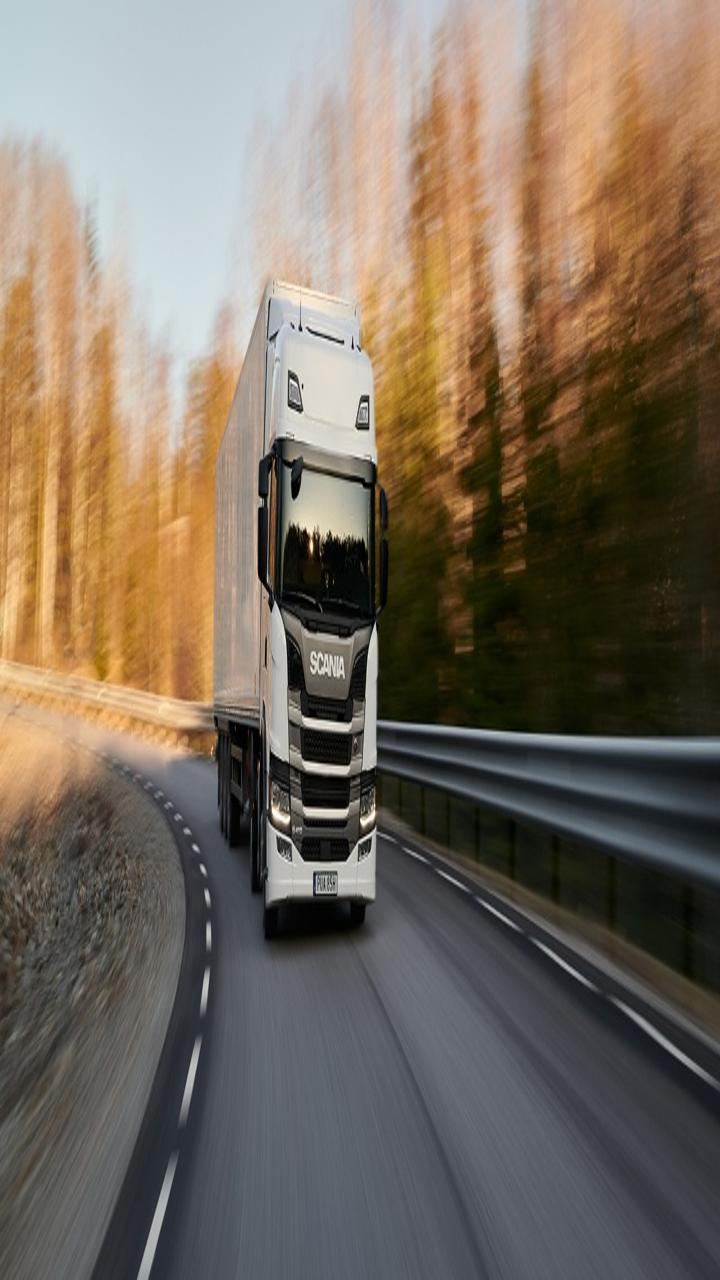Traffic sign: (167, 261, 403, 964)
